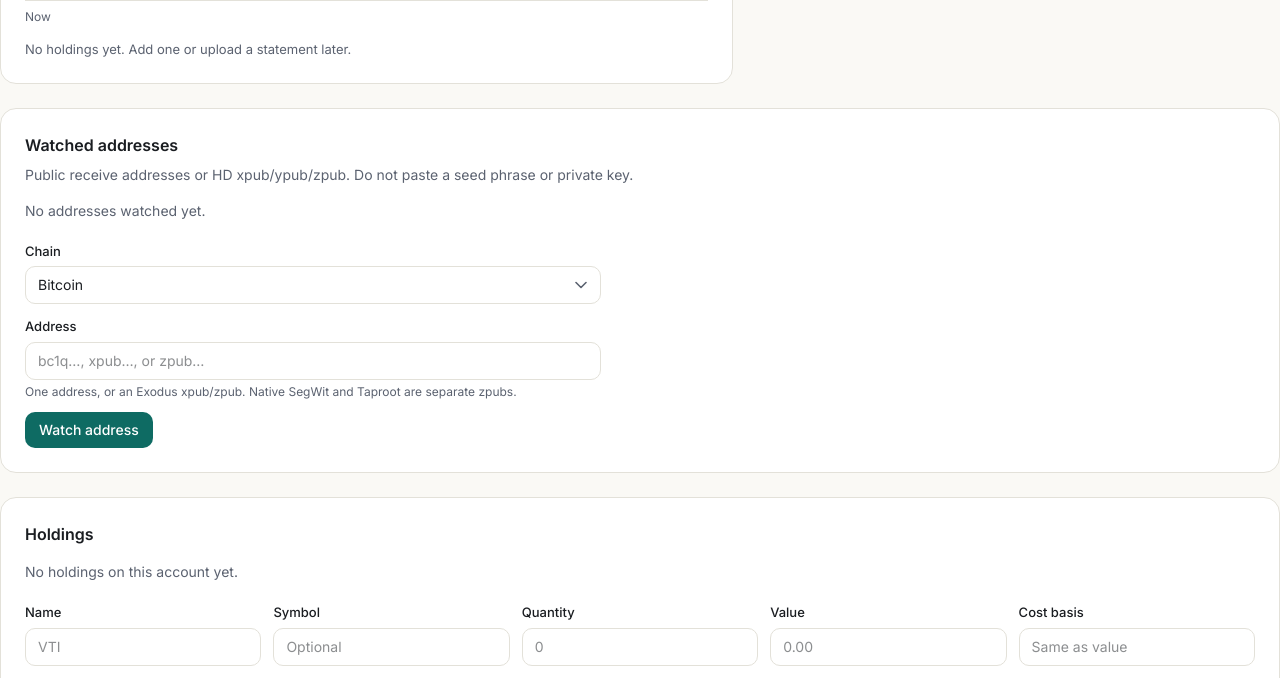
Test: InvestmentDetailPage crypto addresses › copies a watched address and shows the full key on hover
(page scrolled)
Expected: the heading "Watched addresses" is shown, [25, 135, 178, 155]
Type "xpub6Bio1js6vQQD89kFTBc7c2vcF5pnjnbmKhyMNKXkEEgh48Yjo39E3ZshRmUC4GwDoFNsSQPSgPNH7RGyh6qCwAzbABo8ZhbDh4UDtTjVEBA" into the field with placeholder "bc1q…, xpub…, or zpub…" at (313, 361), box [25, 342, 601, 380]
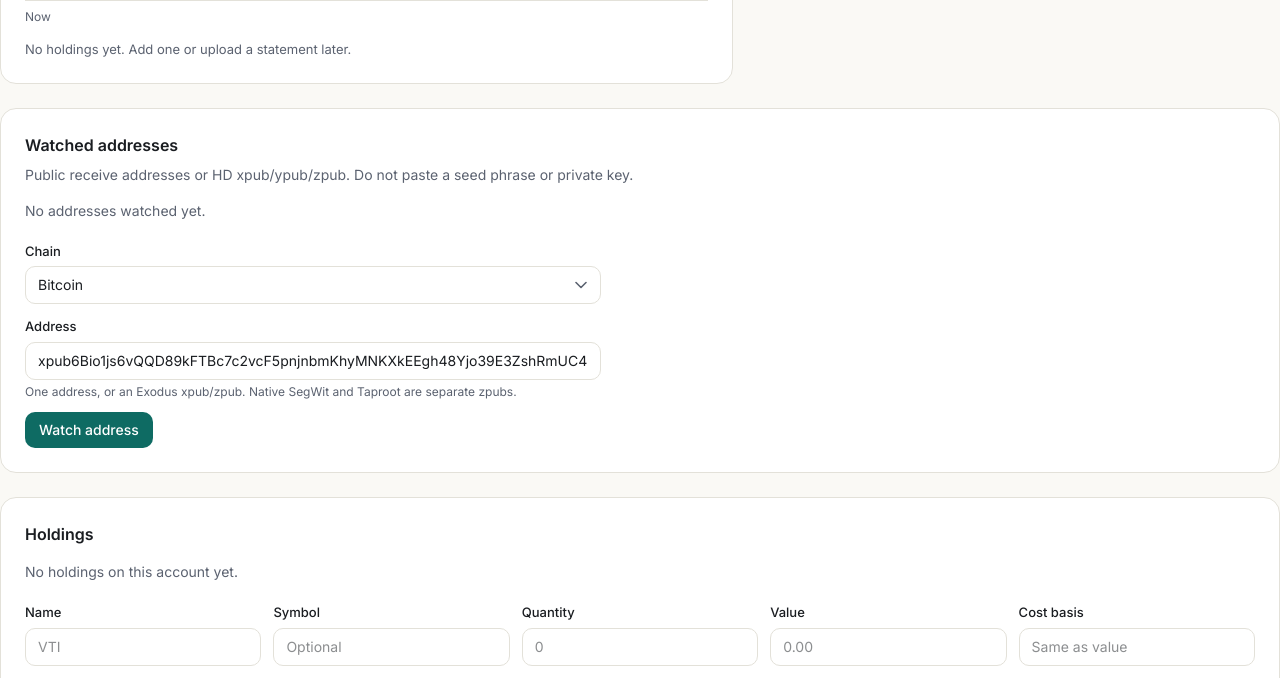
Click the button "Watch address" at (89, 430), box [25, 412, 153, 448]
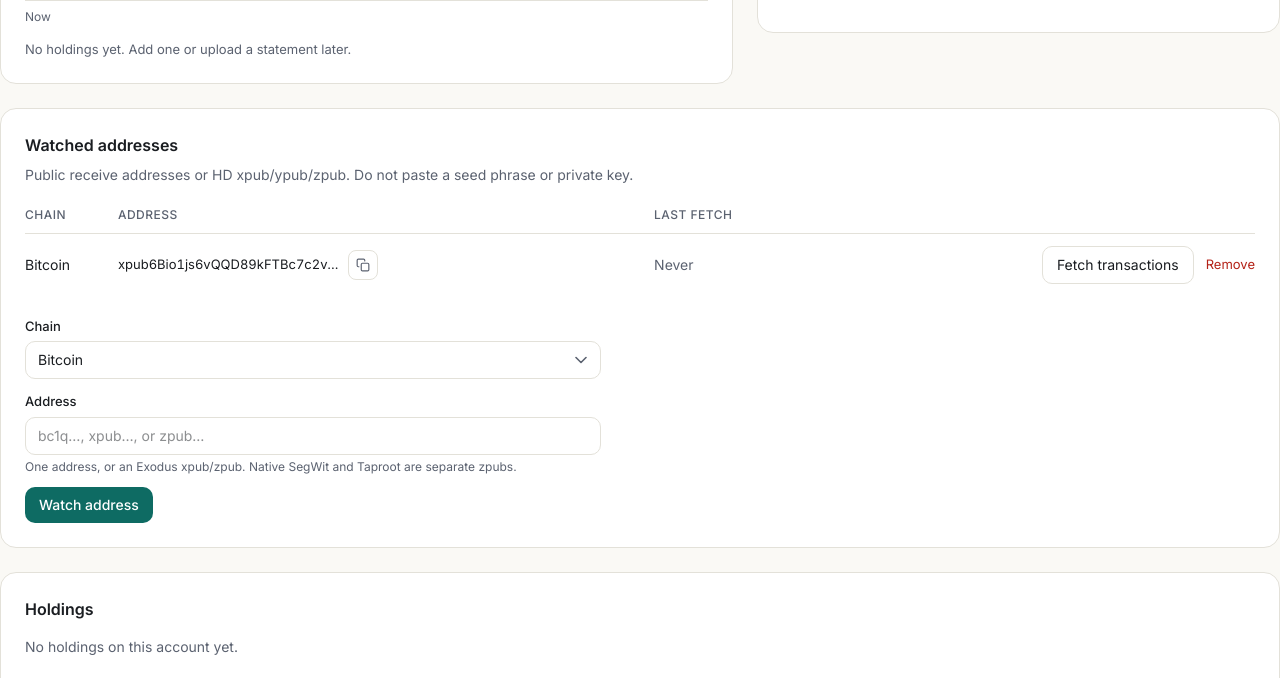
Hover over the text "xpub6Bio1js6vQQD89kFTBc7c2vcF5pnjnbmKhyMNKXkEEgh48Yjo39E3ZshRmUC4GwDoFNsSQPSgPNH7RGyh6qCwAzbABo8ZhbDh4UDtTjVEBA" at (229, 265), box [118, 256, 340, 274]
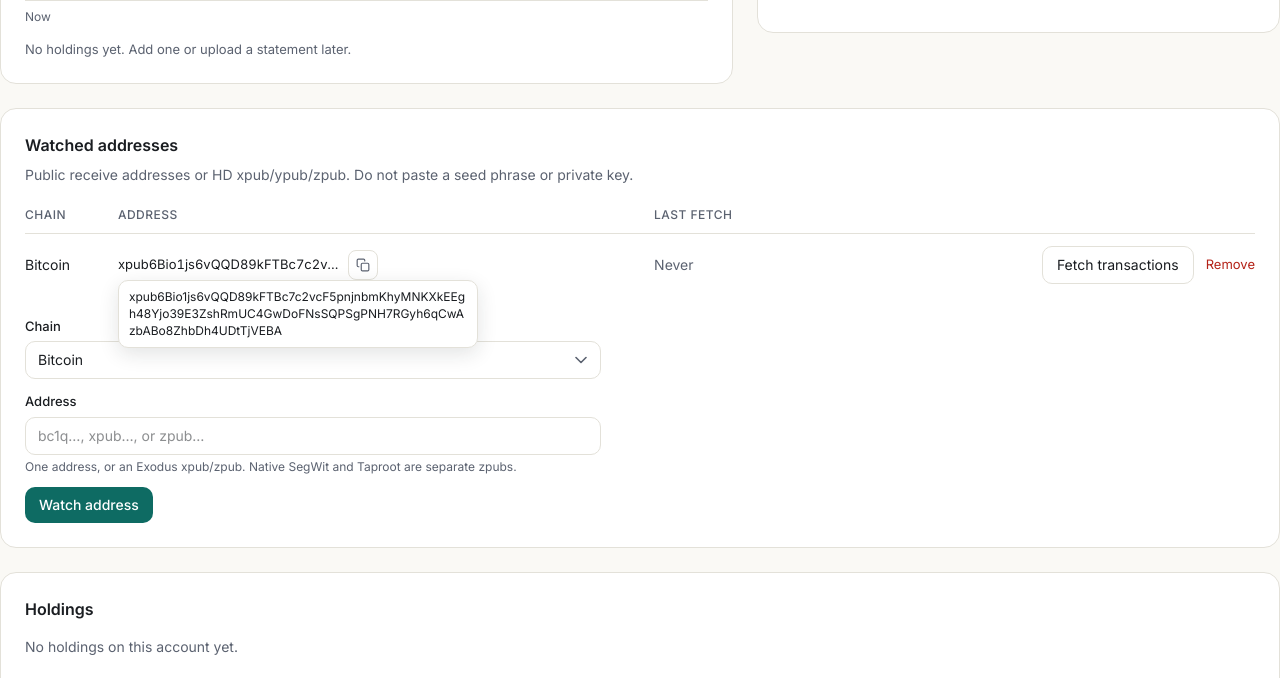
Expected: the tooltip shows "xpub6Bio1js6vQQD89kFTBc7c2vcF5pnjnbmKhyMNKXkEEgh48Yjo39E3ZshRmUC4GwDoFNsSQPSgPNH7RGyh6qCwAzbABo8ZhbDh4UDtTjVEBA", [129, 289, 465, 338]
Click the button named "Copy address" at (363, 265), box [348, 250, 378, 280]
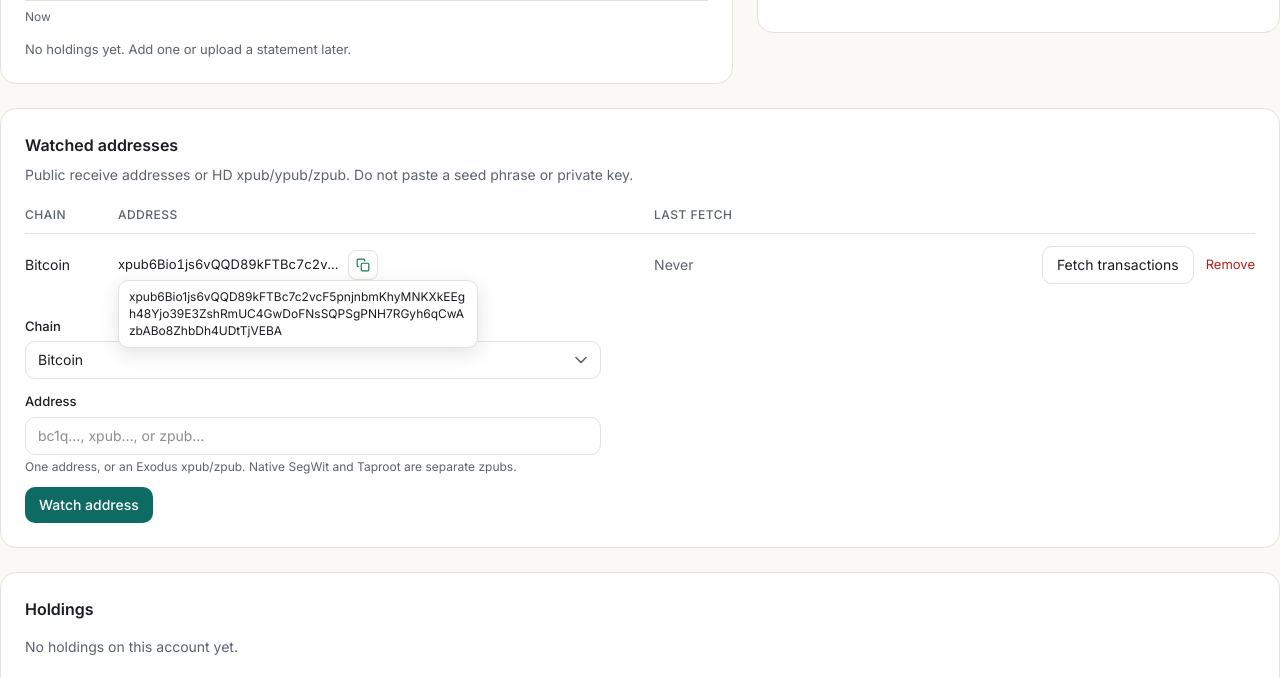
Expected: the button titled "Copied" is shown, [348, 250, 378, 280]
